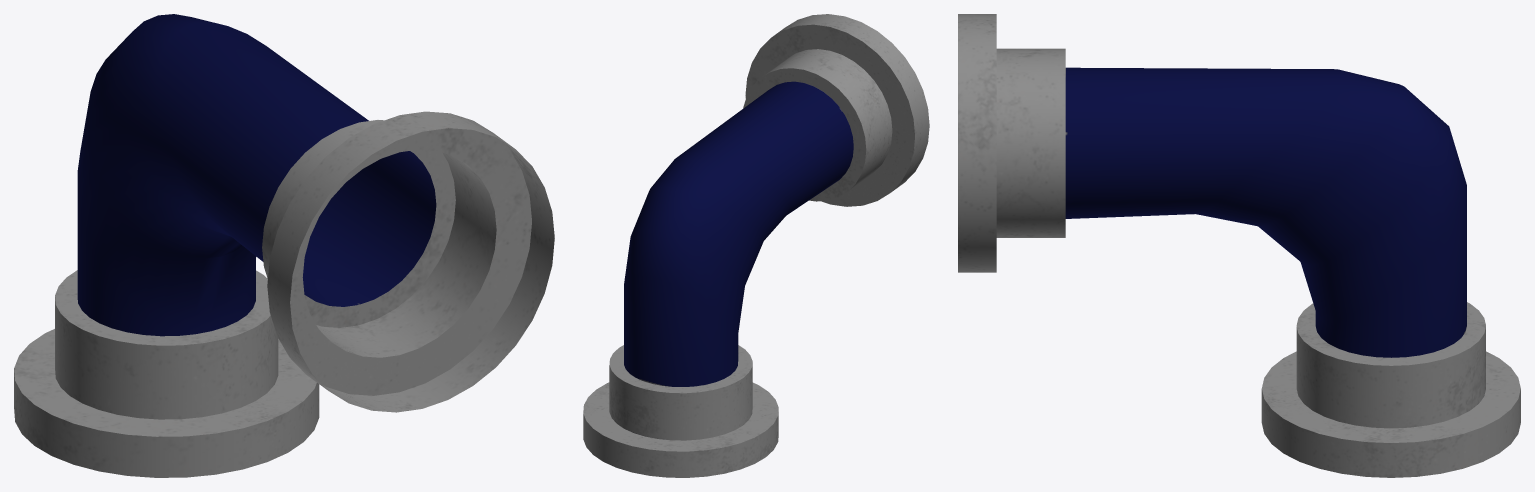
File: pipe blue.fbx
3 views of the same model, side by side, from view 1: azimuth 30°, elevation 25°; view 2: azimuth 150°, elevation 25°; view 3: azimuth 270°, elevation 25° (orthographic). The views are drawn at different scales.
Visible parts, largest first — view 1: Circle; view 2: Circle; view 3: Circle.
Part boxes in pixels (x1=…): Circle: x1=14, y1=14, x2=554, y2=477; Circle: x1=583, y1=14, x2=929, y2=477; Circle: x1=958, y1=14, x2=1520, y2=477.
Bounding box in the file's own units: 54.03 × 91.41 × 117.
